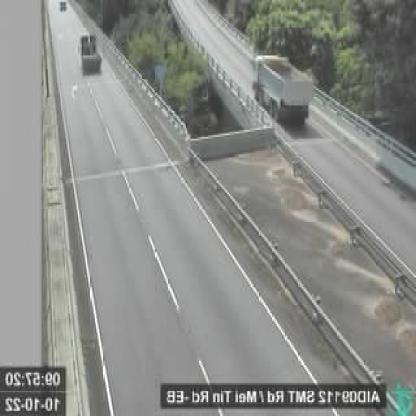Truck: (254, 54, 311, 123), (78, 31, 102, 75)
